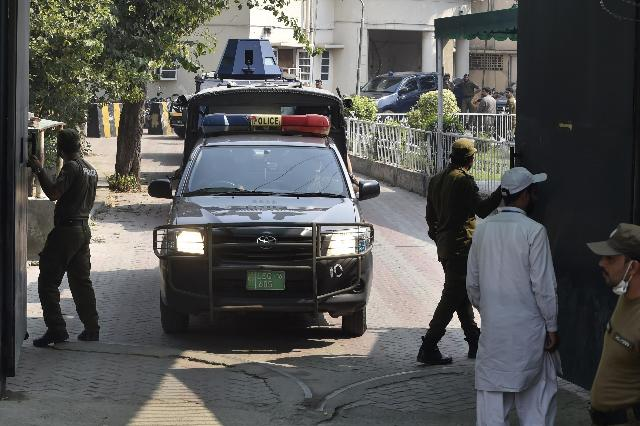police_car: (159, 78, 373, 346)
